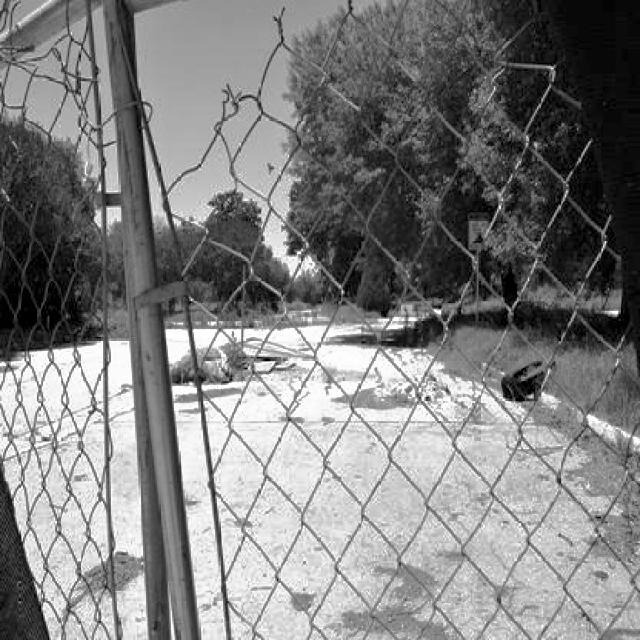anomaly-fence: (0, 0, 635, 297), (81, 326, 240, 634)
